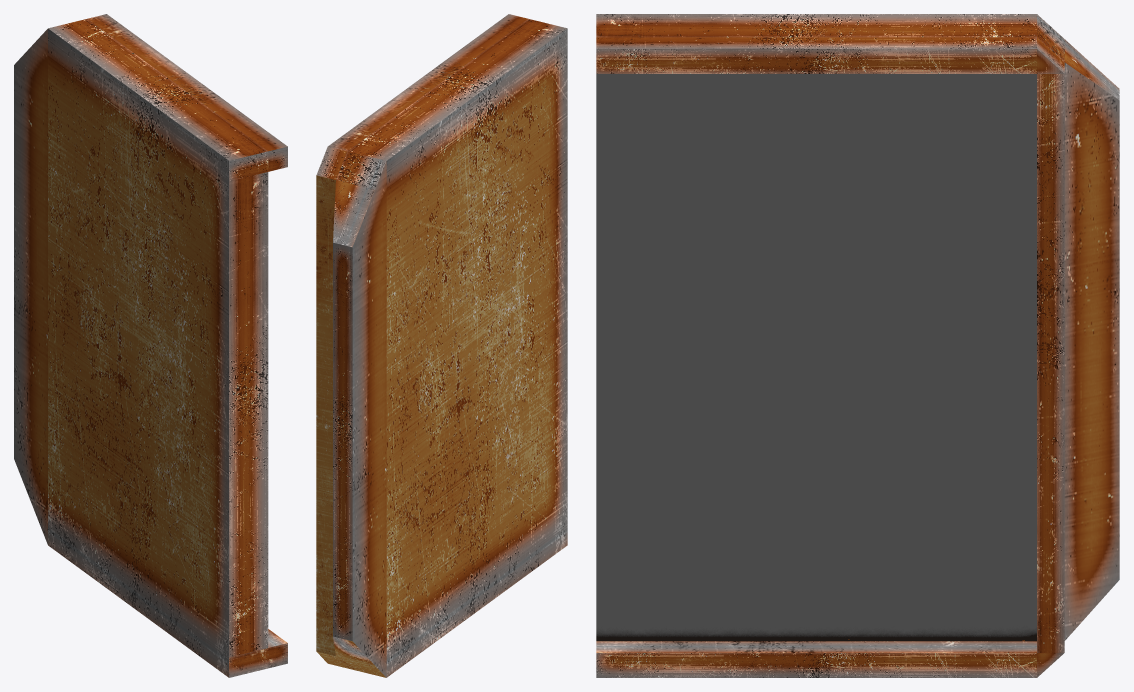
The model's file is Access Card Machine.obj.
The picture shows the model from 3 angles, left to right: view 1: azimuth 30°, elevation 25°; view 2: azimuth 150°, elevation 25°; view 3: azimuth 270°, elevation 25°; orthographic projection. The views are drawn at different scales.
Visible parts, largest first — view 1: Access Card Machine; view 2: Access Card Machine; view 3: Access Card Machine.
Part boxes in pixels (box(x1,y1,x2,y2)): Access Card Machine: box(14, 14, 287, 677); Access Card Machine: box(316, 14, 567, 677); Access Card Machine: box(596, 14, 1119, 677).
Bounding box in the file's own units: 0.0375 × 0.315 × 0.2375.
2 materials, 2 textured.
